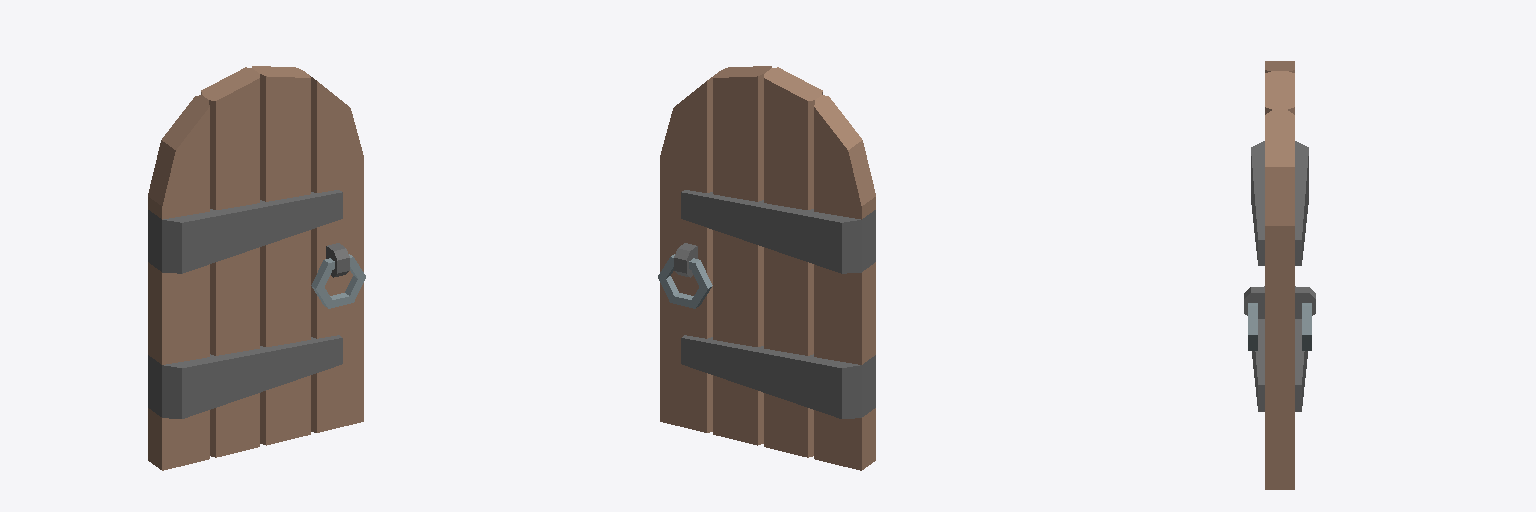
File: prop_wall_big_door_wood.obj
The picture shows the model from 3 angles: view 1: azimuth 30°, elevation 25°; view 2: azimuth 150°, elevation 25°; view 3: azimuth 270°, elevation 25°; orthographic projection.
Visible parts, largest first — view 1: prop_wall_big_door_wood_6, prop_wall_big_door_wood_2, prop_wall_big_door_wood, prop_wall_big_door_wood_3, prop_wall_big_door_wood_5; view 2: prop_wall_big_door_wood_6, prop_wall_big_door_wood_2, prop_wall_big_door_wood, prop_wall_big_door_wood_4, prop_wall_big_door_wood_5; view 3: prop_wall_big_door_wood_6, prop_wall_big_door_wood_2, prop_wall_big_door_wood, prop_wall_big_door_wood_5.
Part boxes in pixels (x1,y1,x2,y2): prop_wall_big_door_wood_6: (148,66,363,470); prop_wall_big_door_wood_2: (148,190,342,273); prop_wall_big_door_wood: (148,335,342,418); prop_wall_big_door_wood_3: (311,254,365,308); prop_wall_big_door_wood_5: (326,243,349,277); prop_wall_big_door_wood_6: (660,66,875,470); prop_wall_big_door_wood_2: (681,190,875,273); prop_wall_big_door_wood: (681,335,875,418); prop_wall_big_door_wood_4: (658,254,712,308); prop_wall_big_door_wood_5: (674,243,697,277); prop_wall_big_door_wood_6: (1265,61,1294,489); prop_wall_big_door_wood_2: (1251,141,1308,265); prop_wall_big_door_wood: (1252,286,1307,411); prop_wall_big_door_wood_5: (1244,287,1315,318).
Bounding box in the file's own units: 0.8 × 1.4 × 0.25.